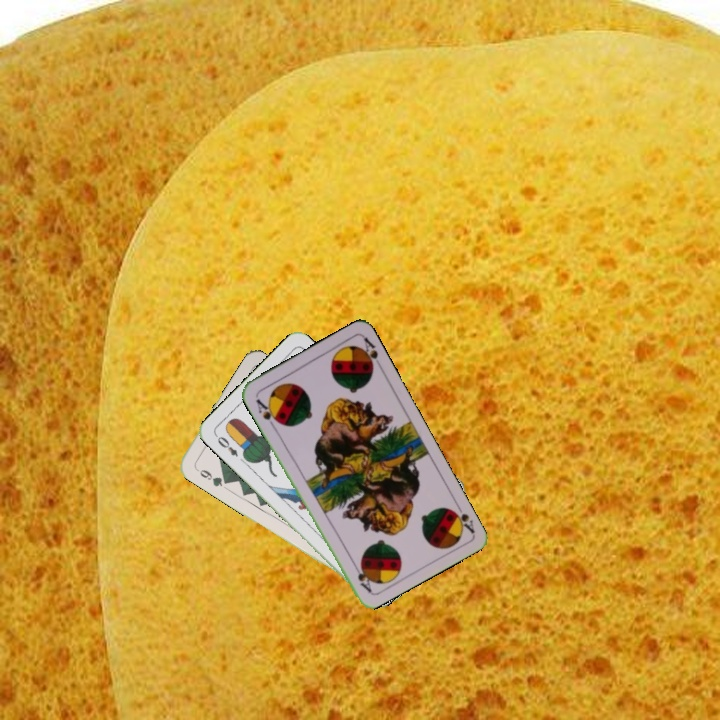EO: (211, 431, 241, 459)
G9: (191, 463, 230, 489)
SA: (445, 498, 477, 536), (251, 395, 282, 430)
